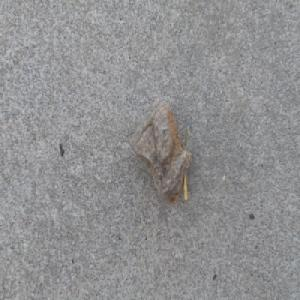Rock: (129, 97, 191, 205)
